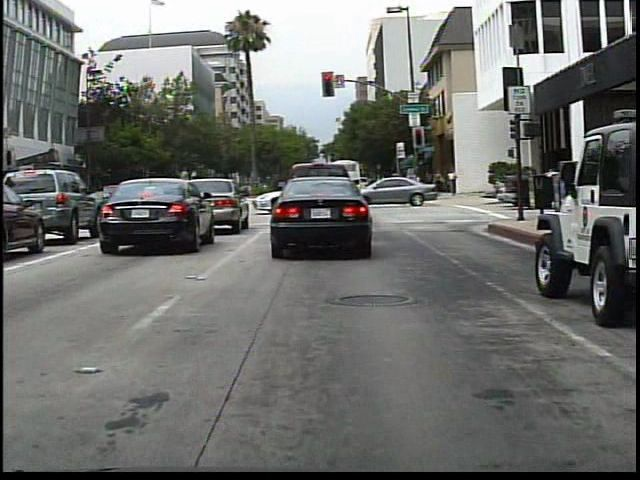person: (430, 165, 448, 197), (446, 167, 464, 198)
